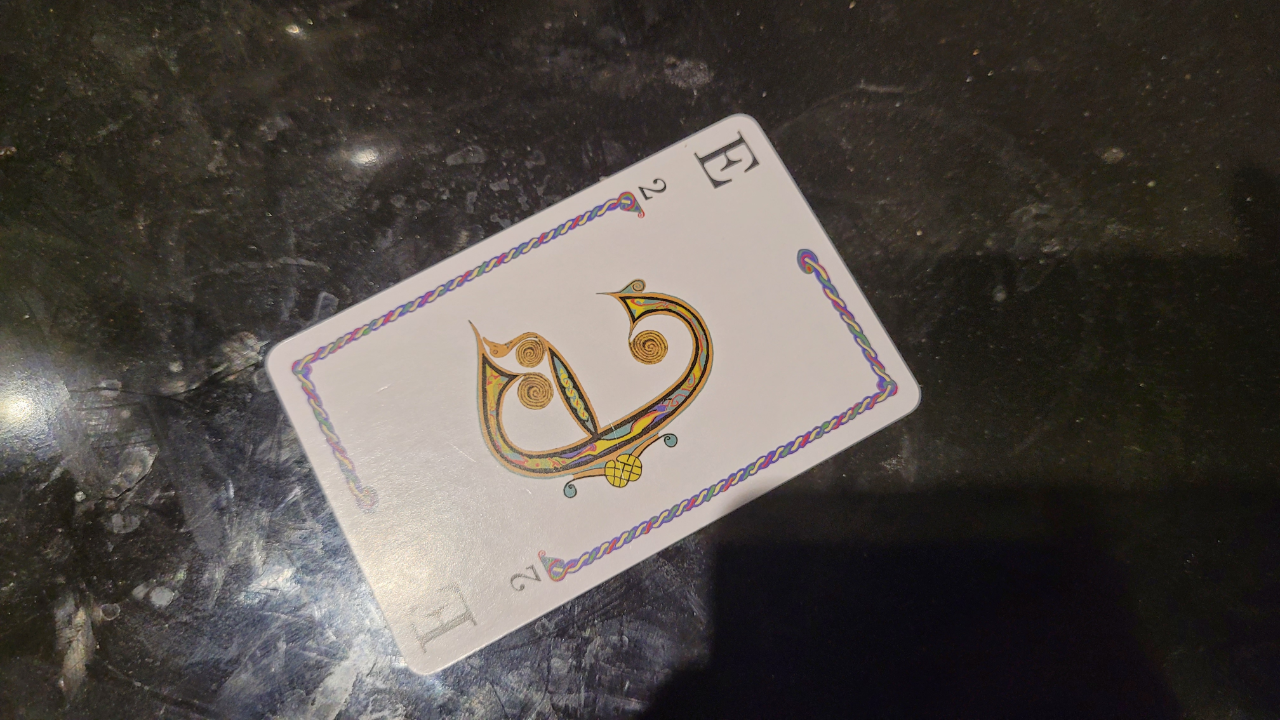quiddler_card: (260, 91, 938, 701)
